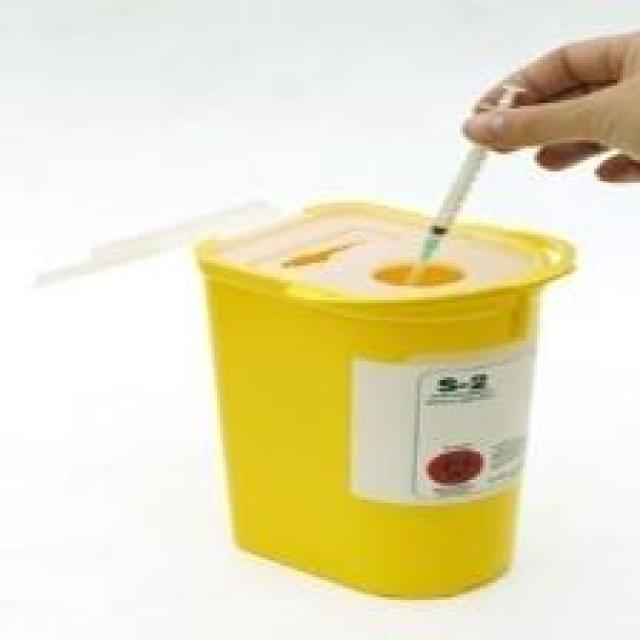syringe: (410, 72, 525, 280)
